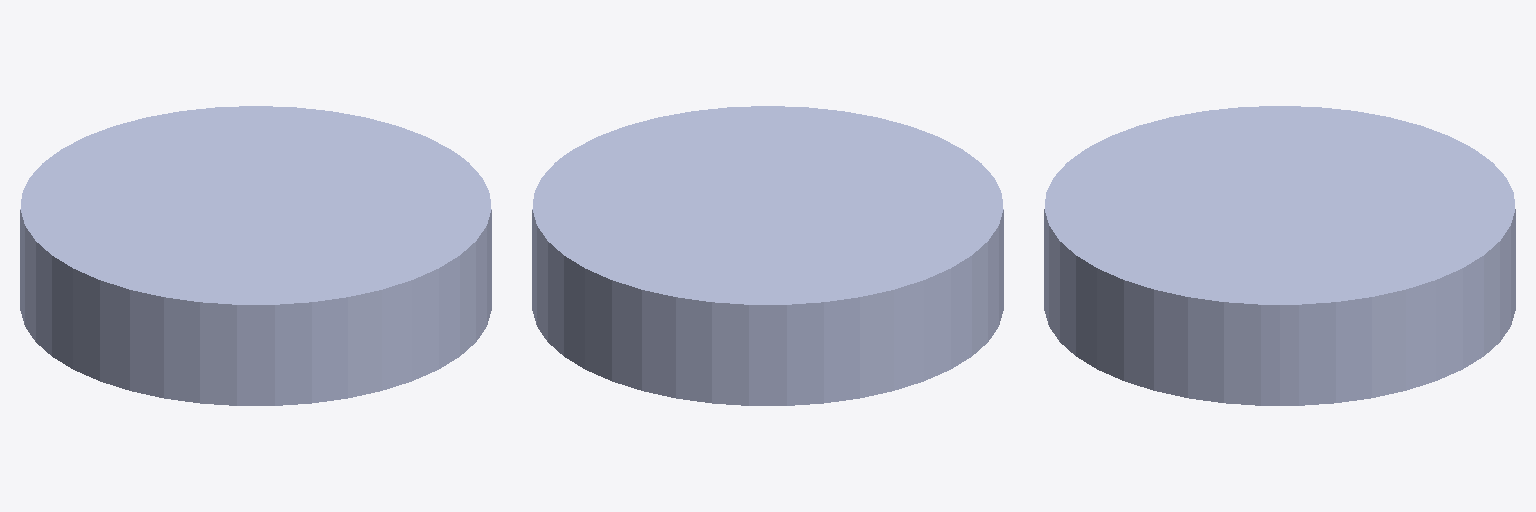
The robot description file, URDF, robot "Part1":
<?xml version="1.0" ?>
<robot name="Part1">
	<link name="connector">
		<inertial>
			<origin
				xyz="1.269E-18 -0.0079375 4.86015646673256E-19"
				rpy="0 0 0" />
			<mass value="0.05597" />
			<inertia
				ixx="1.68784449251922E-05"
				ixy="0"
				ixz="4.59177480789956E-38"
				iyy="1.03347254490157E-21"
				iyz="-3.14060153878525E-05"
				izz="1.92300029961038E-21" />
		</inertial>
		<visual>
			<origin xyz="1.5707963267949 0 0" rpy="0 0 0" />
			<geometry>
				<mesh filename="package://connector/meshes/connector.STL" />
			</geometry>
			<material name="">
				<color rgba="0.79216 0.81961 0.93333 1" />
			</material>
		</visual>
		<collision>
			<origin xyz="0 0 0" rpy="1.5707963267949 0 0" />
			<geometry>
				<mesh filename="package://connector/meshes/connector.STL" />
			</geometry>
		</collision>
	</link>
</robot>

--- Facts derived from the render (not from the file) ---
3 views of the same robot in one strip: view 1: azimuth 30°, elevation 25°; view 2: azimuth 150°, elevation 25°; view 3: azimuth 270°, elevation 25° (orthographic).
Model Part1 with 1 links and 0 joints (none), rooted at connector, posed all joints at 0.
Links seen in each view (by area): view 1: connector; view 2: connector; view 3: connector.
Boxes of the visible links, bbox=[...] form: connector: bbox=[20, 106, 491, 405]; connector: bbox=[532, 106, 1003, 405]; connector: bbox=[1044, 106, 1515, 405].
Size in the robot's own frame: 0.067 by 0.0669 by 0.0159 metres.
1 mesh visuals loaded from 1 distinct referenced files (1 binary STL).